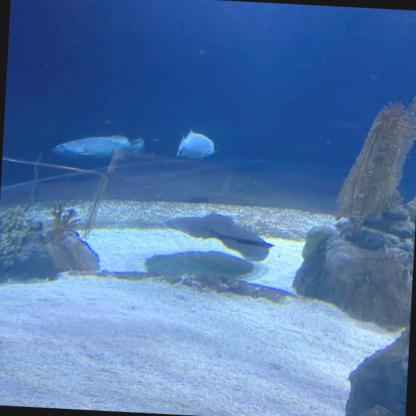fish: (51, 132, 143, 160), (177, 130, 215, 160)
stingray: (162, 210, 272, 263)
